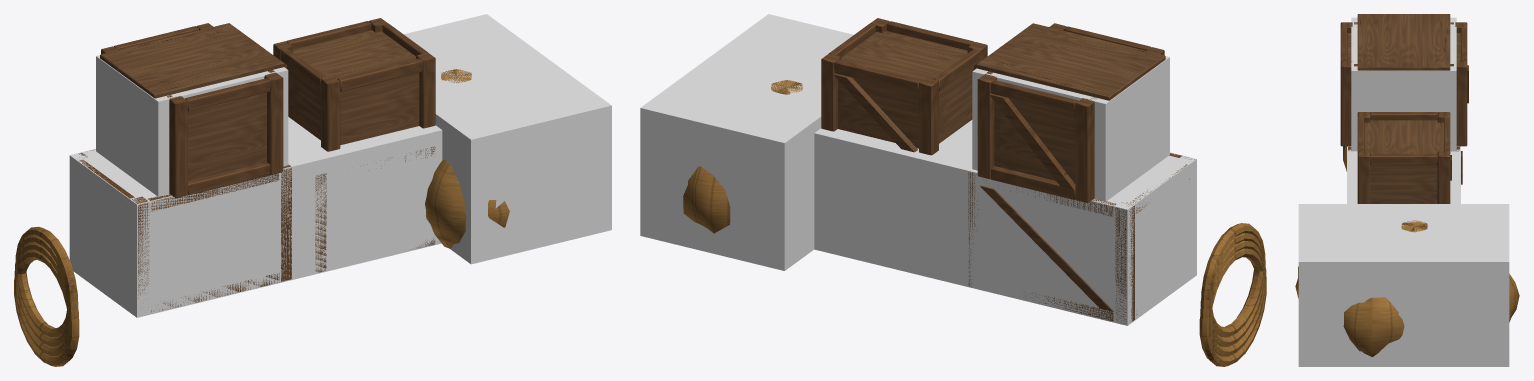
File: settlement_inn_undercroft_crate_stack.gltf
3 renders of one model, left to right at view 1: azimuth 30°, elevation 25°; view 2: azimuth 150°, elevation 25°; view 3: azimuth 270°, elevation 25°, orthographic. The views are drawn at different scales.
Visible parts, largest first — view 1: settlement_inn_undercroft_crate_stack_col, settlement_inn_undercroft_crate_stack_LOD0; view 2: settlement_inn_undercroft_crate_stack_col, settlement_inn_undercroft_crate_stack_LOD0; view 3: settlement_inn_undercroft_crate_stack_col, settlement_inn_undercroft_crate_stack_LOD0.
Boxes of the visible parts, left/top/right/bottom form: settlement_inn_undercroft_crate_stack_col: left=69, top=14, right=611, bottom=317; settlement_inn_undercroft_crate_stack_LOD0: left=14, top=18, right=509, bottom=366; settlement_inn_undercroft_crate_stack_col: left=640, top=14, right=1196, bottom=325; settlement_inn_undercroft_crate_stack_LOD0: left=683, top=18, right=1266, bottom=366; settlement_inn_undercroft_crate_stack_col: left=1298, top=17, right=1509, bottom=366; settlement_inn_undercroft_crate_stack_LOD0: left=1295, top=14, right=1519, bottom=356.
Size of what is drawn, in the model's own units: 2.42 by 1.16 by 1.06.
4 materials, 4 textured.
